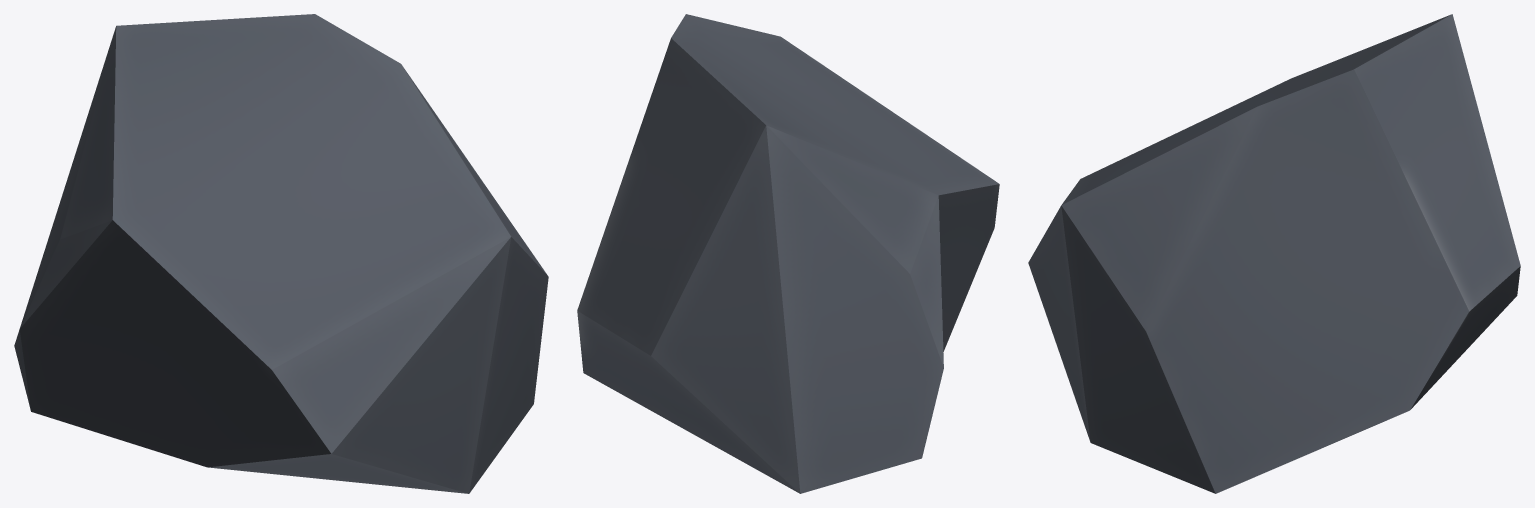
File: Rock1.fbx
The picture shows the model from 3 angles, left to right: view 1: azimuth 30°, elevation 25°; view 2: azimuth 150°, elevation 25°; view 3: azimuth 270°, elevation 25°; orthographic projection. The views are drawn at different scales.
Parts seen in each view (by area): view 1: Rock1; view 2: Rock1; view 3: Rock1.
Boxes of the visible parts, x1,y1,x2,y2 form: Rock1: (14,14,548,493); Rock1: (577,14,999,493); Rock1: (1028,14,1520,493).
Bounding box in the file's own units: 2.76 × 2.34 × 2.86.
1 material, 1 textured.
